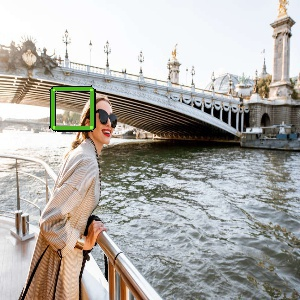square: (48, 84, 99, 133)
